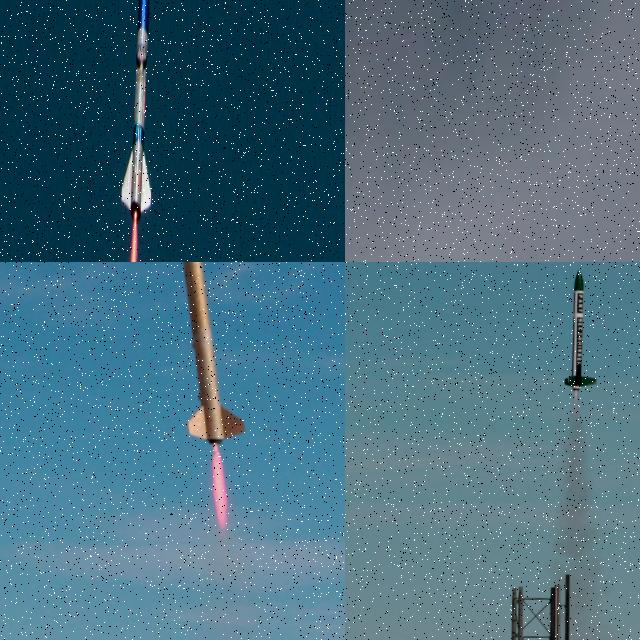Rocket: (174, 262, 248, 445), (121, 0, 153, 221), (562, 268, 598, 390)
